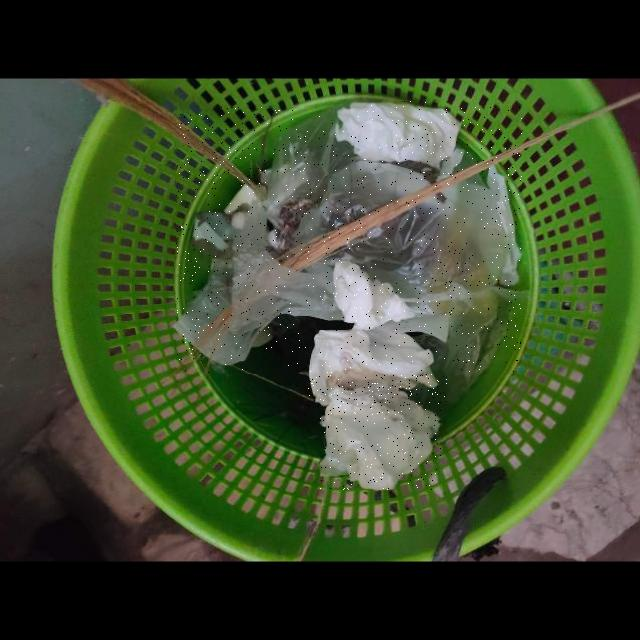paper: (321, 367, 441, 490), (308, 313, 448, 406), (334, 101, 462, 174), (332, 253, 433, 329)
plastic: (177, 107, 522, 374)
